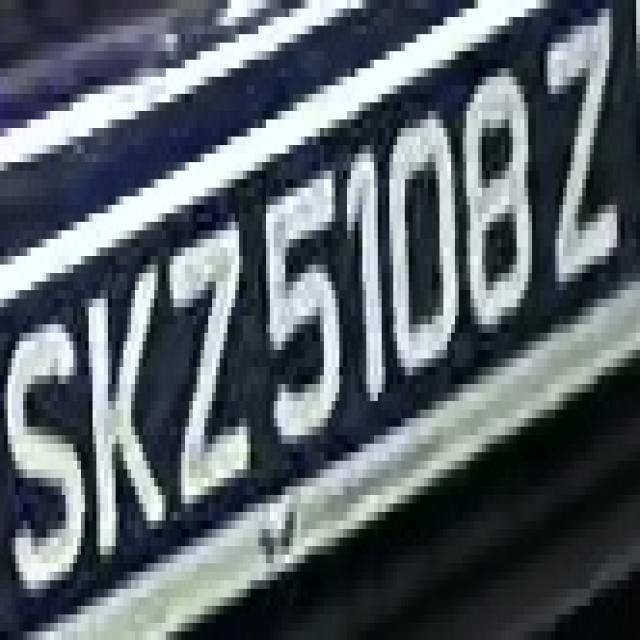0: (382, 68, 455, 401)
1: (351, 102, 389, 436)
5: (255, 145, 343, 469)
8: (455, 51, 532, 350)
K: (77, 256, 166, 572)
S: (0, 273, 93, 623)
Z: (154, 188, 258, 538), (532, 0, 632, 324)
